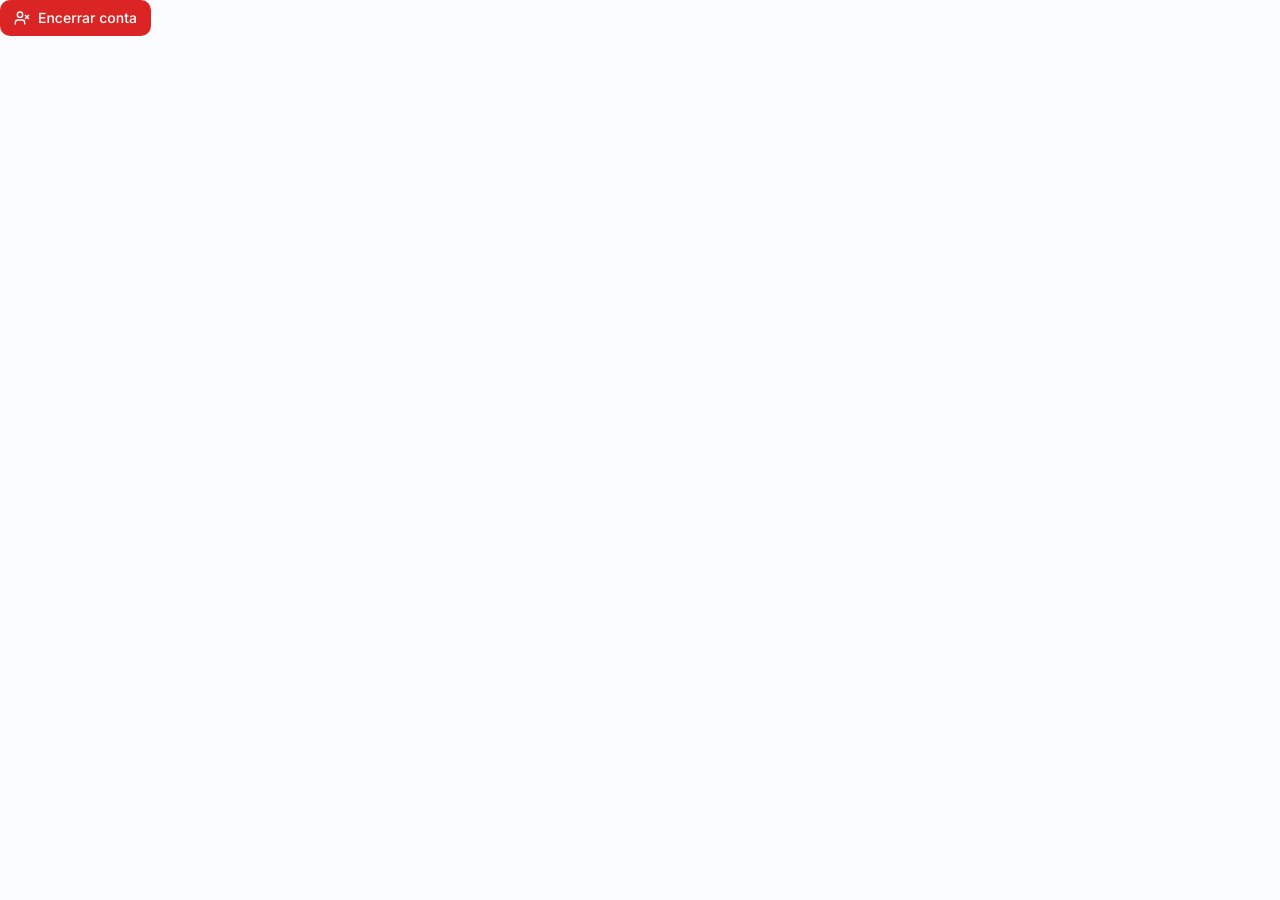
Test: EncerrarContaDialog › diz que as sessões abertas caem — e é essa promessa que o resto cobra
Click the button "Encerrar conta".
click(76, 18)  # box [0,0,151,36]
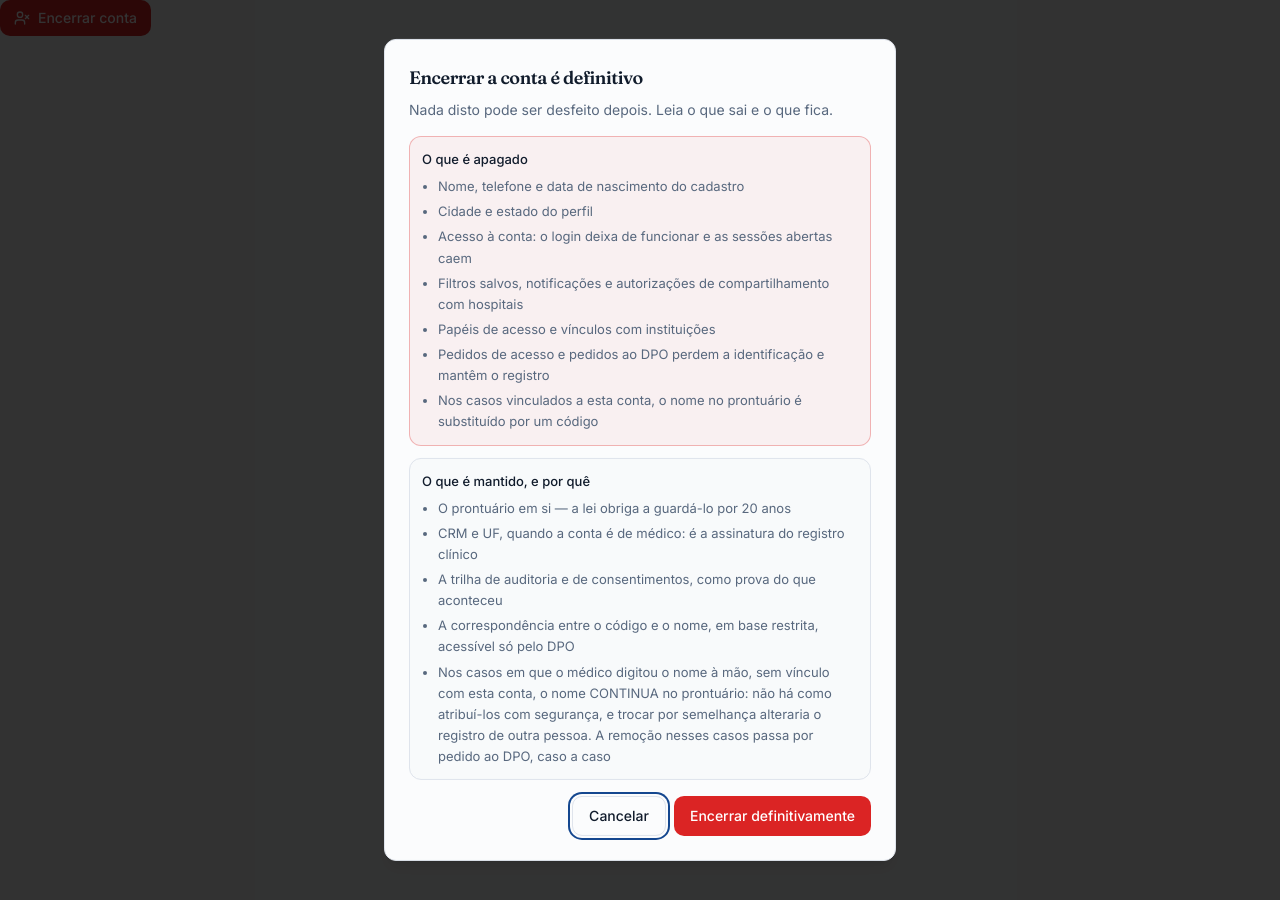
Result: the list item "as sessões abertas caem" is shown at [438,228,832,265]
